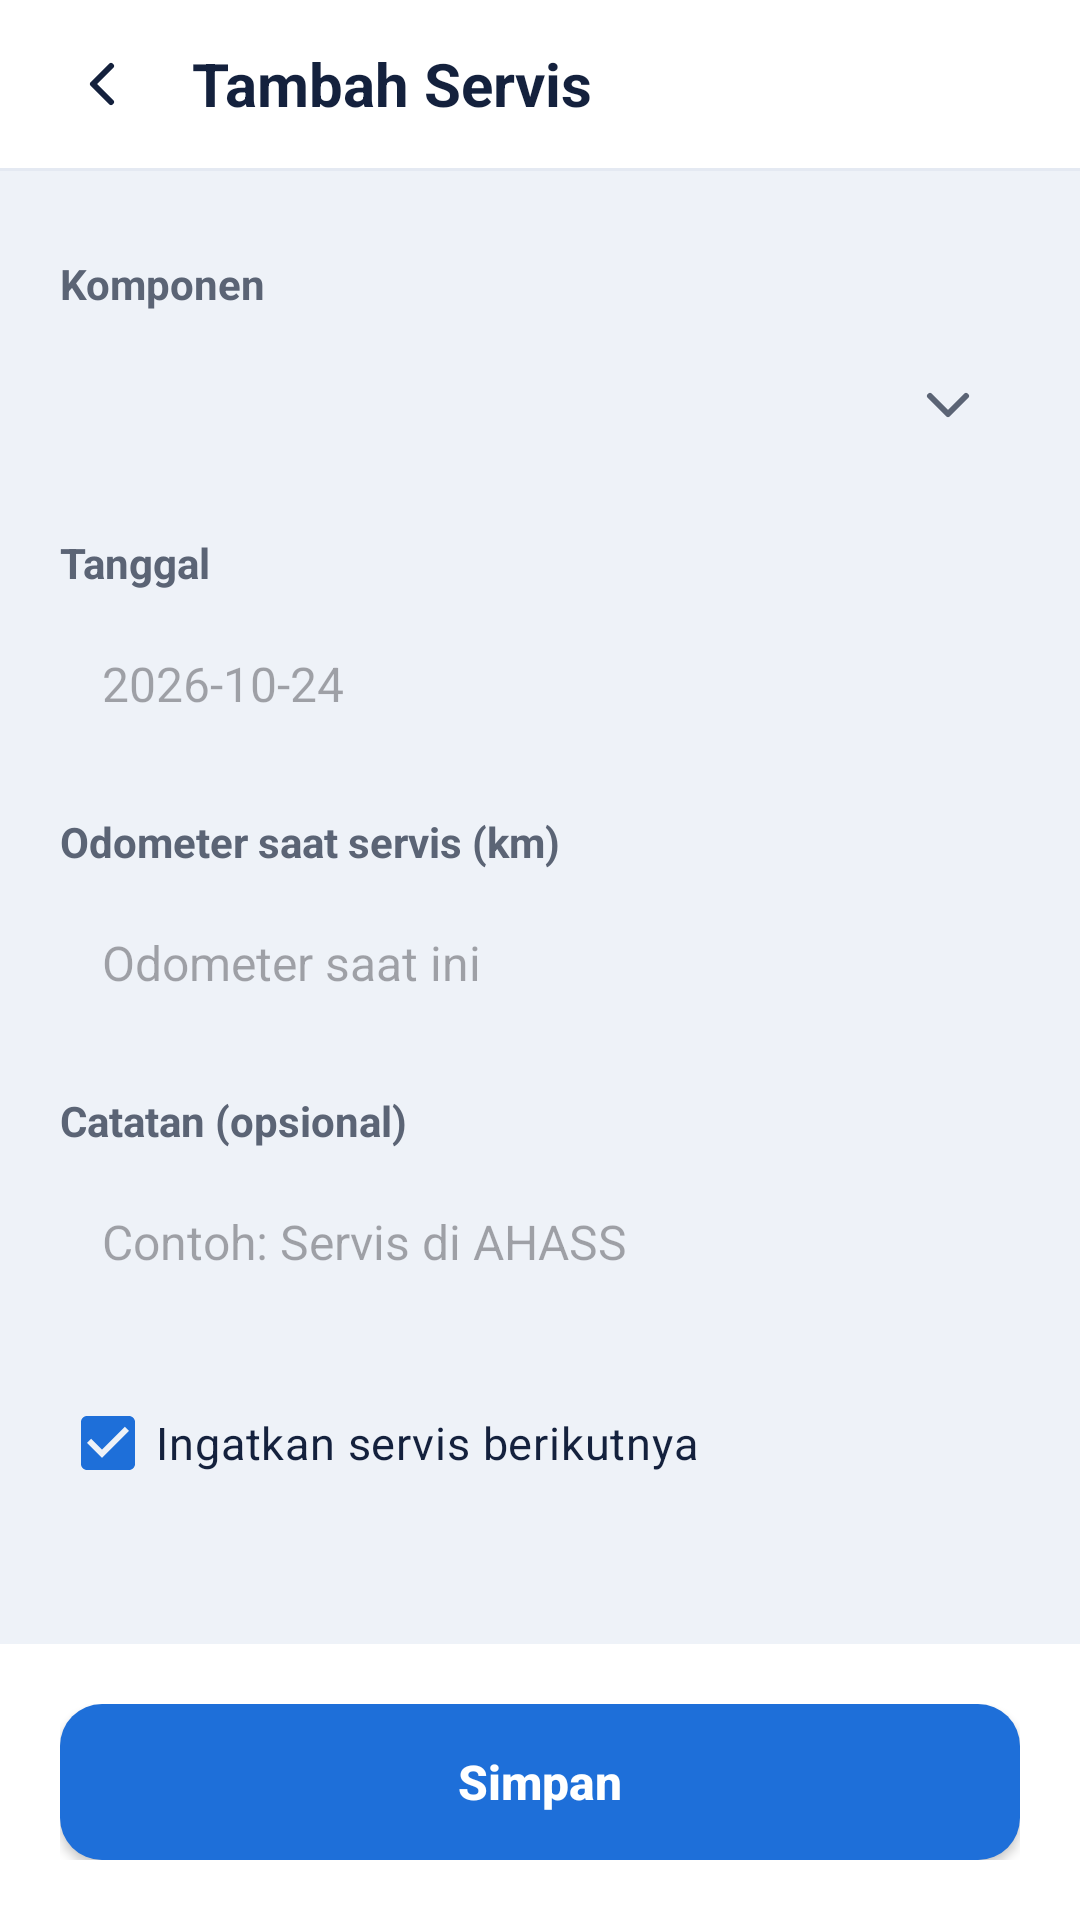

Screen size 1080×1920. Icon name, then its box in pixels as (x1, y1, x2, y2):
arrow down: (927, 393, 969, 417)
Kembali: (90, 63, 114, 105)
